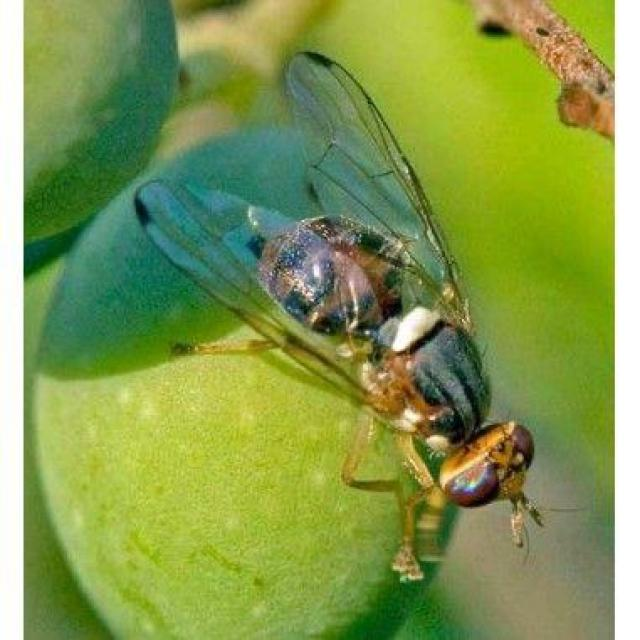Olive Fruit Fly: (34, 52, 609, 638)
